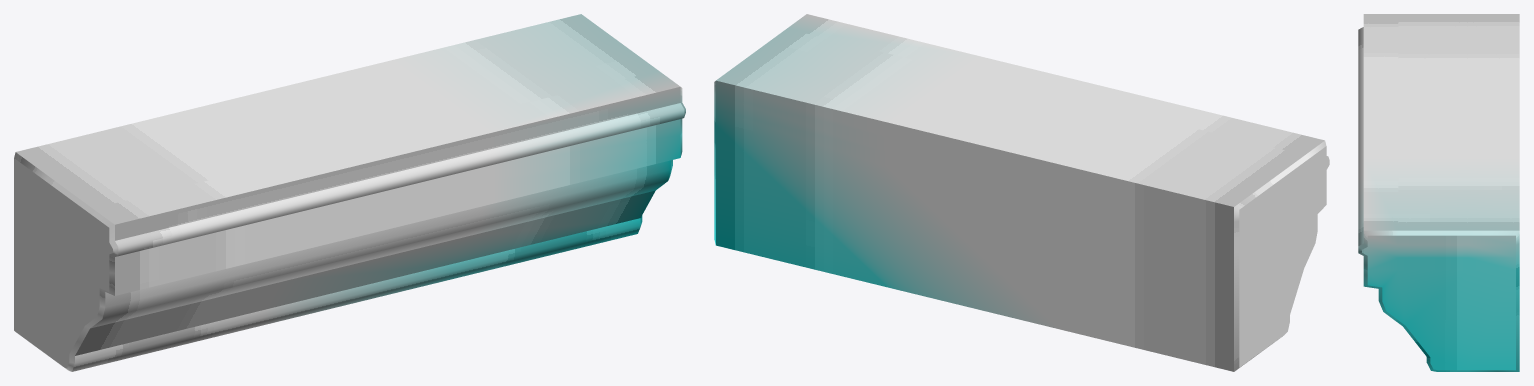
Rendered from SM_TrimPiece_02.fbx.
3 renders of one model, left to right at view 1: azimuth 30°, elevation 25°; view 2: azimuth 150°, elevation 25°; view 3: azimuth 270°, elevation 25°, orthographic. The views are drawn at different scales.
Parts seen in each view (by area): view 1: SM_TrimPiece_02; view 2: SM_TrimPiece_02; view 3: SM_TrimPiece_02.
Boxes of the visible parts, x1,y1,x2,y2 form: SM_TrimPiece_02: [14, 14, 685, 371]; SM_TrimPiece_02: [714, 14, 1329, 371]; SM_TrimPiece_02: [1358, 14, 1519, 371].
Bounding box in the file's own units: 500 × 155 × 150.
